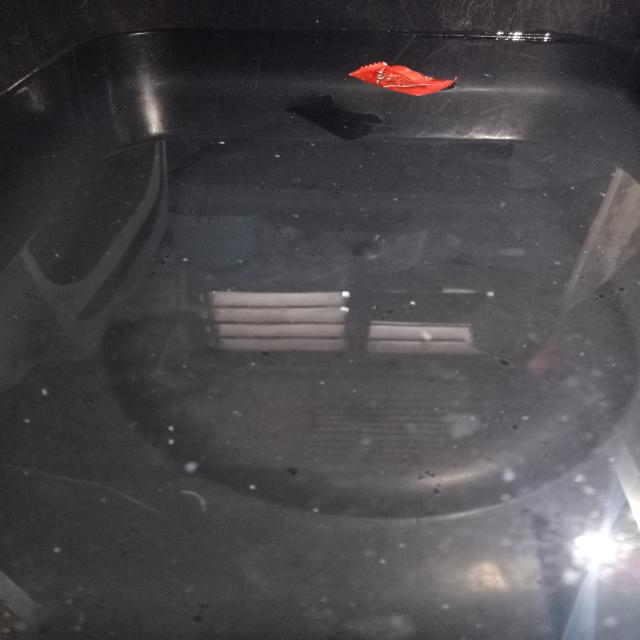Plastic Wrapper: (349, 61, 457, 95)
